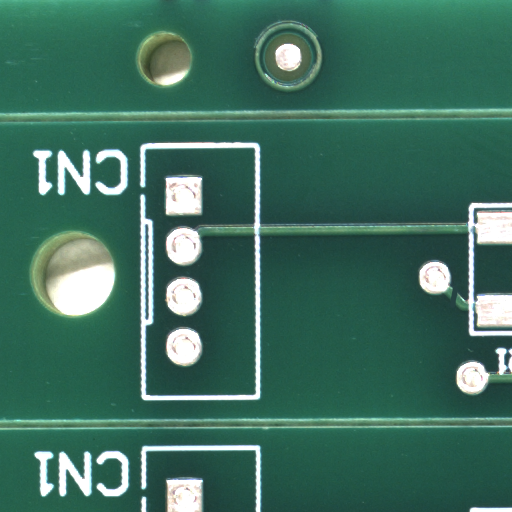Open_circuit: (453, 296, 464, 318)
